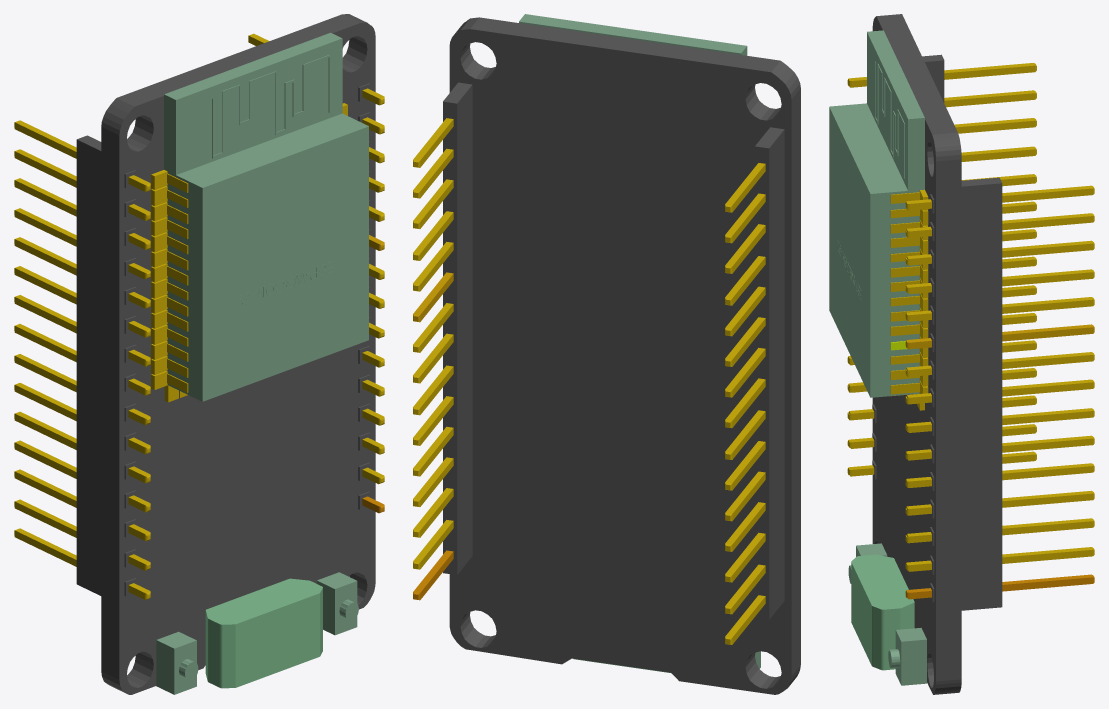
Rendered from esp32.glb.
3 views of the same model, side by side, from view 1: azimuth 30°, elevation 25°; view 2: azimuth 150°, elevation 25°; view 3: azimuth 270°, elevation 25° (orthographic). The views are drawn at different scales.
Parts seen in each view (by area): view 1: imagetostl_mesh2; view 2: imagetostl_mesh2; view 3: imagetostl_mesh2.
Part boxes in pixels (box(x1,y1,x2,y2)): imagetostl_mesh2: box(14, 14, 384, 694); imagetostl_mesh2: box(413, 14, 800, 694); imagetostl_mesh2: box(829, 14, 1094, 694).
Bounding box in the file's own units: 1.92 × 3.53 × 1.5.
